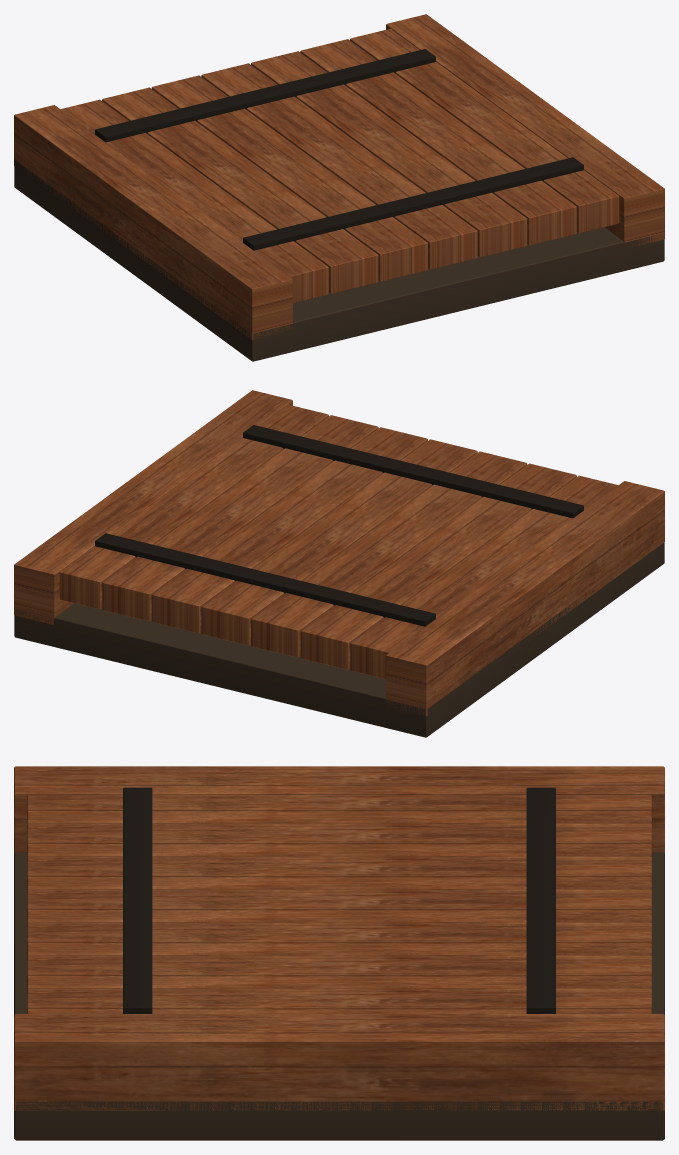
The model's file is dyers-roof-hatch.glb.
The picture shows the model from 3 angles, top to bottom: view 1: azimuth 30°, elevation 25°; view 2: azimuth 150°, elevation 25°; view 3: azimuth 270°, elevation 25°; orthographic projection. The views are drawn at different scales.
Visible parts, largest first — view 1: dyers-roof-hatch; view 2: dyers-roof-hatch; view 3: dyers-roof-hatch.
Boxes of the visible parts, left/top/right/bottom form: dyers-roof-hatch: left=14, top=14, right=664, bottom=361; dyers-roof-hatch: left=14, top=390, right=664, bottom=737; dyers-roof-hatch: left=14, top=766, right=664, bottom=1140.
Bounding box in the file's own units: 1 × 0.18 × 1.
Materials: 2 (1 with a texture image).
